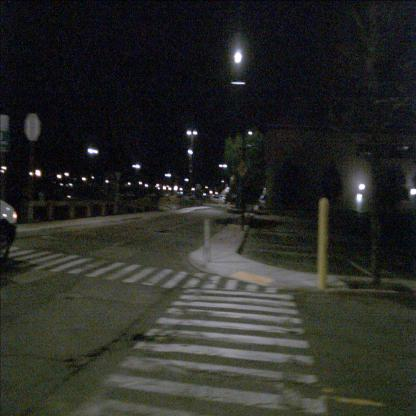vehicle-car: (0, 200, 18, 262)
